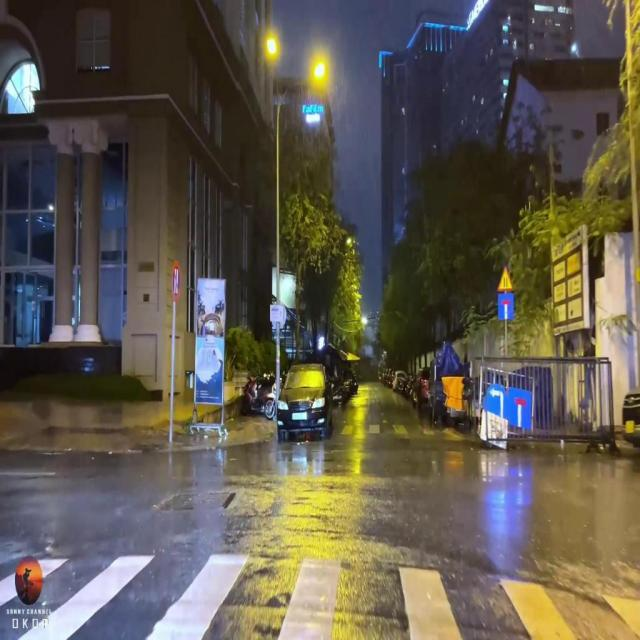cam_do_xe: (170, 258, 182, 302)
khac: (483, 382, 532, 430), (496, 264, 514, 294), (498, 293, 515, 321)
